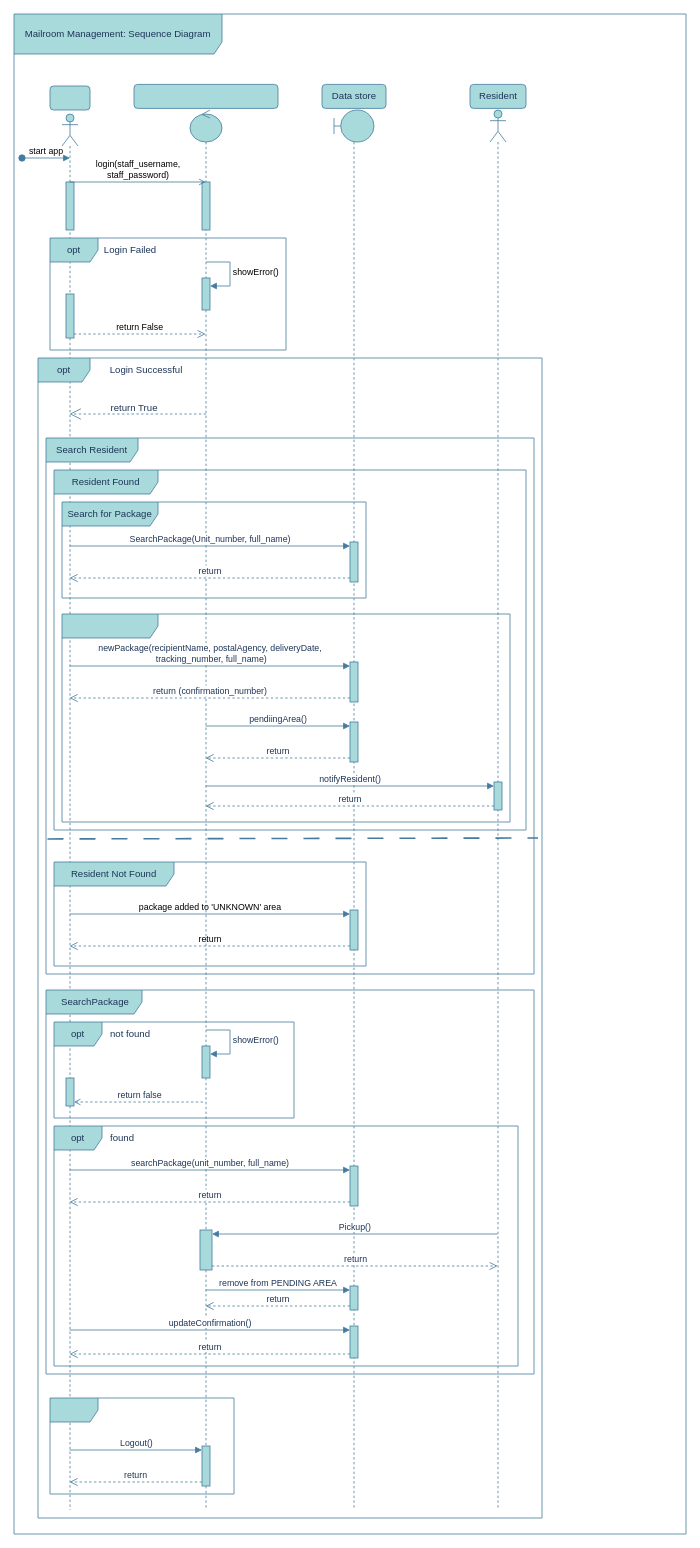
This 700x1548 diagram has some shape labels left out. Here are the shapes that lost their labels. From the top down, the centre of each, then its label:
(69,97): Staff
(205,96): Mailroom Management app UI
(285,717): New Package
(141,1445): Log out
